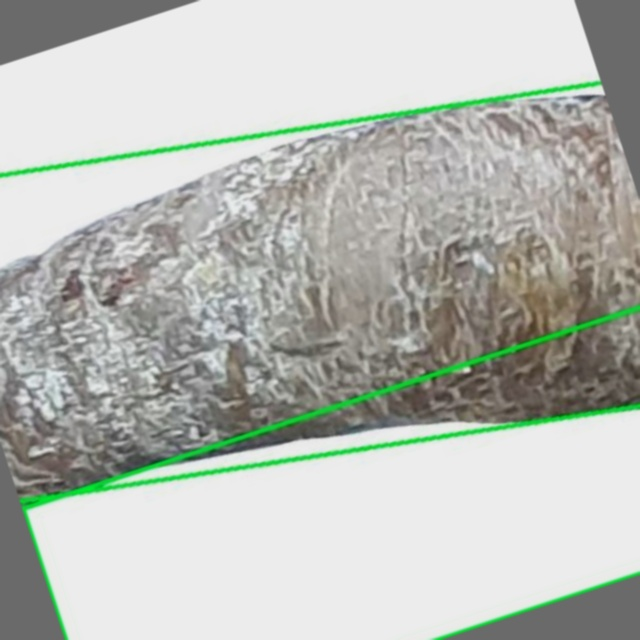Eczema: (0, 87, 639, 498), (23, 307, 639, 639)
